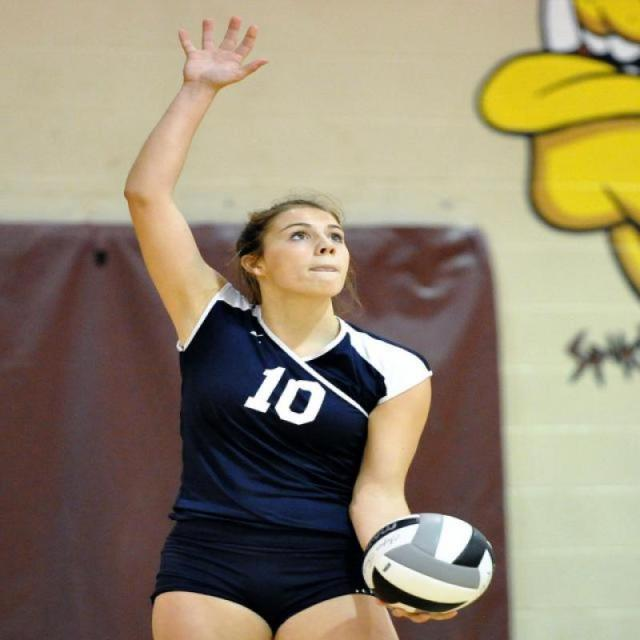volleyball: (354, 511, 500, 616)
